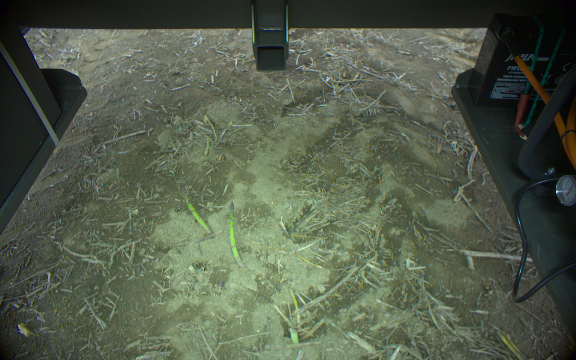aspa: (179, 186, 212, 235), (226, 200, 244, 268)
